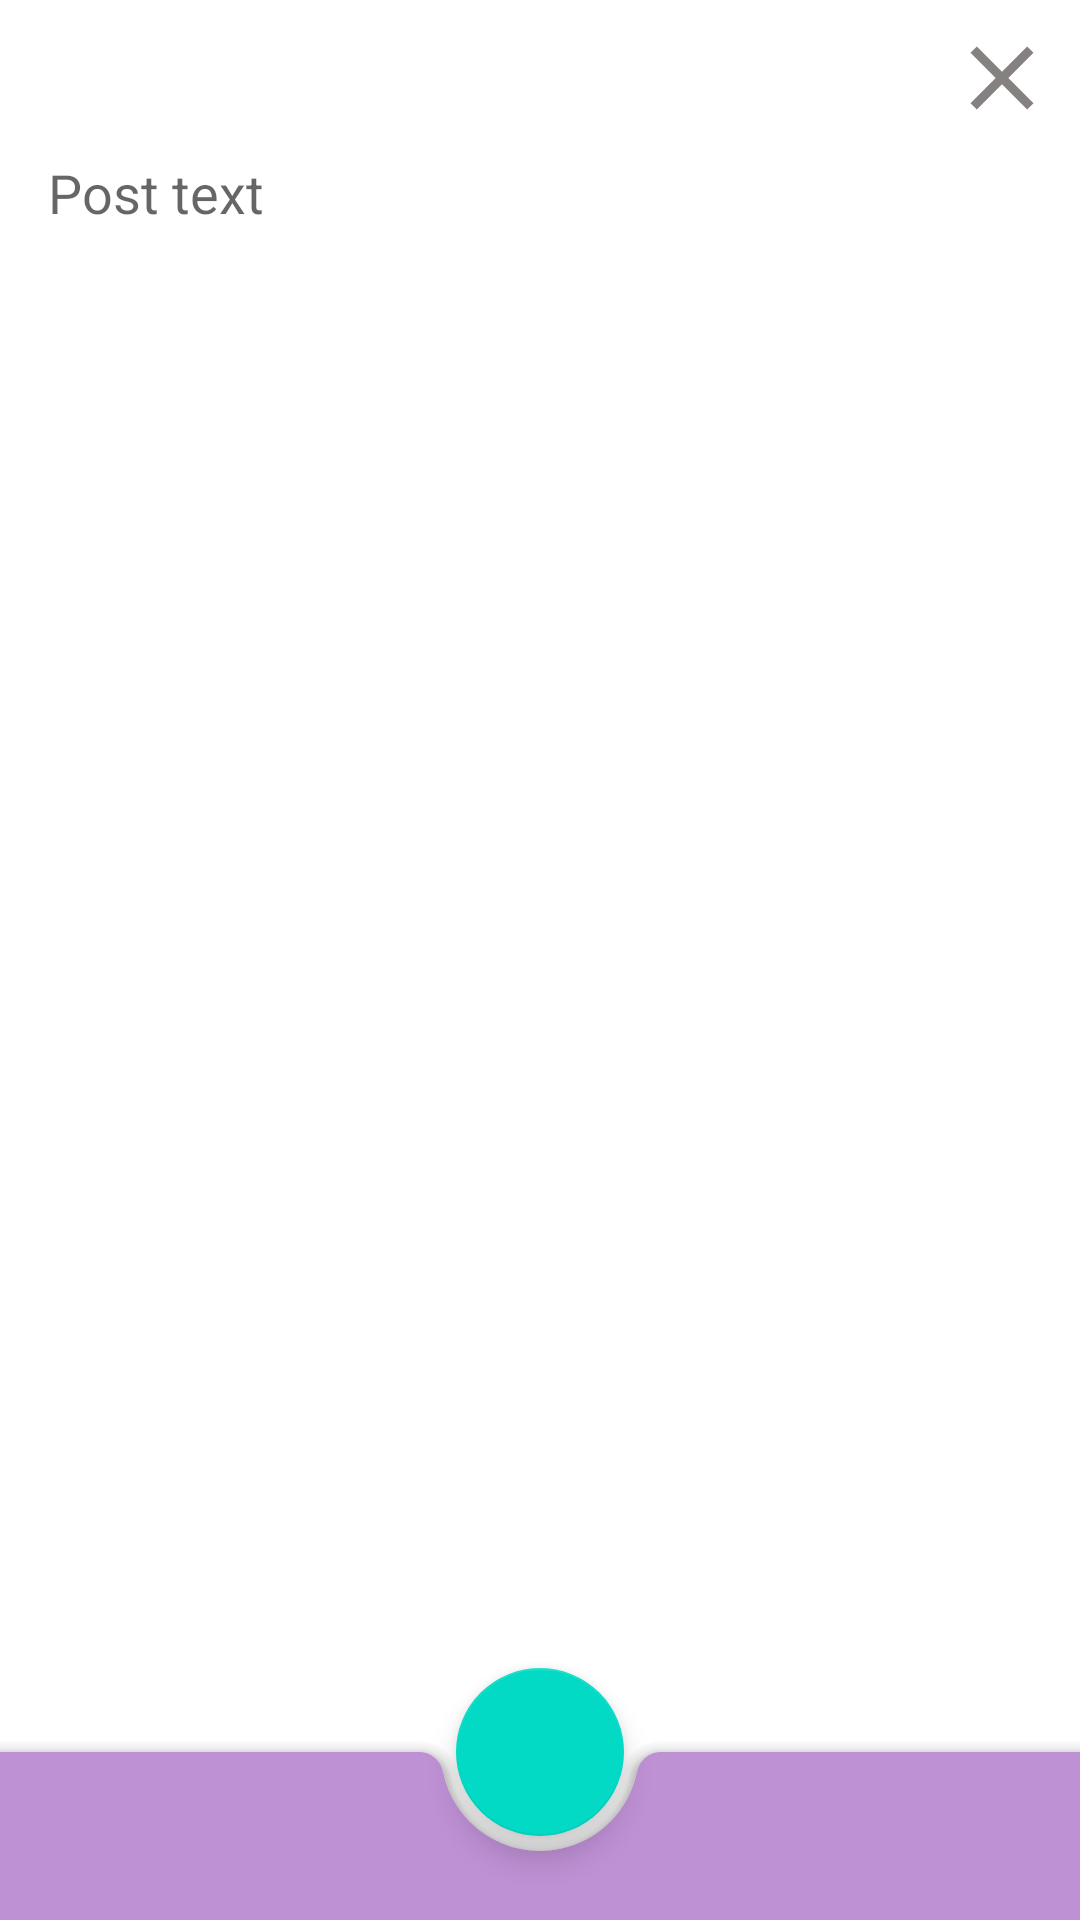

Point at icon controls on the screen. Image size 1080px x 1920px, points as [x,y].
Cancel Button: [1002,78]
